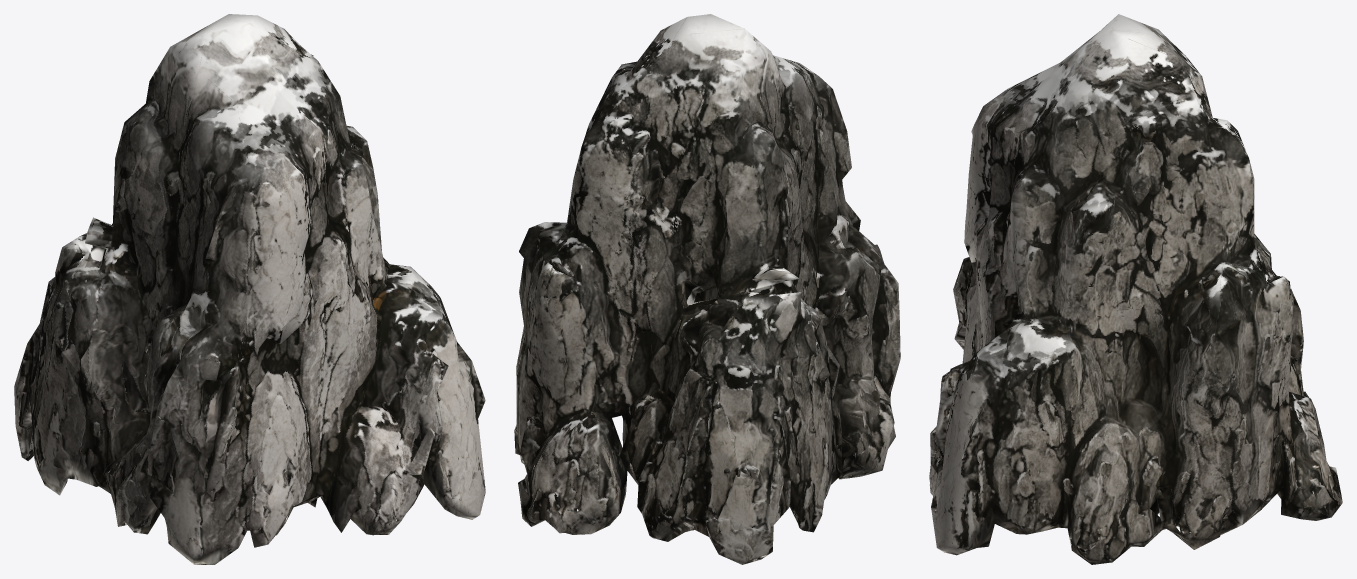
Rendered from InkPart07_Rock_b.fbx.
3 renders of one model, left to right at view 1: azimuth 30°, elevation 25°; view 2: azimuth 150°, elevation 25°; view 3: azimuth 270°, elevation 25°, orthographic. The views are drawn at different scales.
Visible parts, largest first — view 1: texture_mapping; view 2: texture_mapping; view 3: texture_mapping.
Boxes of the visible parts, x1,y1,x2,y2 form: texture_mapping: [14, 14, 485, 564]; texture_mapping: [514, 14, 900, 564]; texture_mapping: [929, 14, 1342, 564].
Bounding box in the file's own units: 0.7357 × 0.8064 × 0.984.
Materials: 1 (1 with a texture image).
